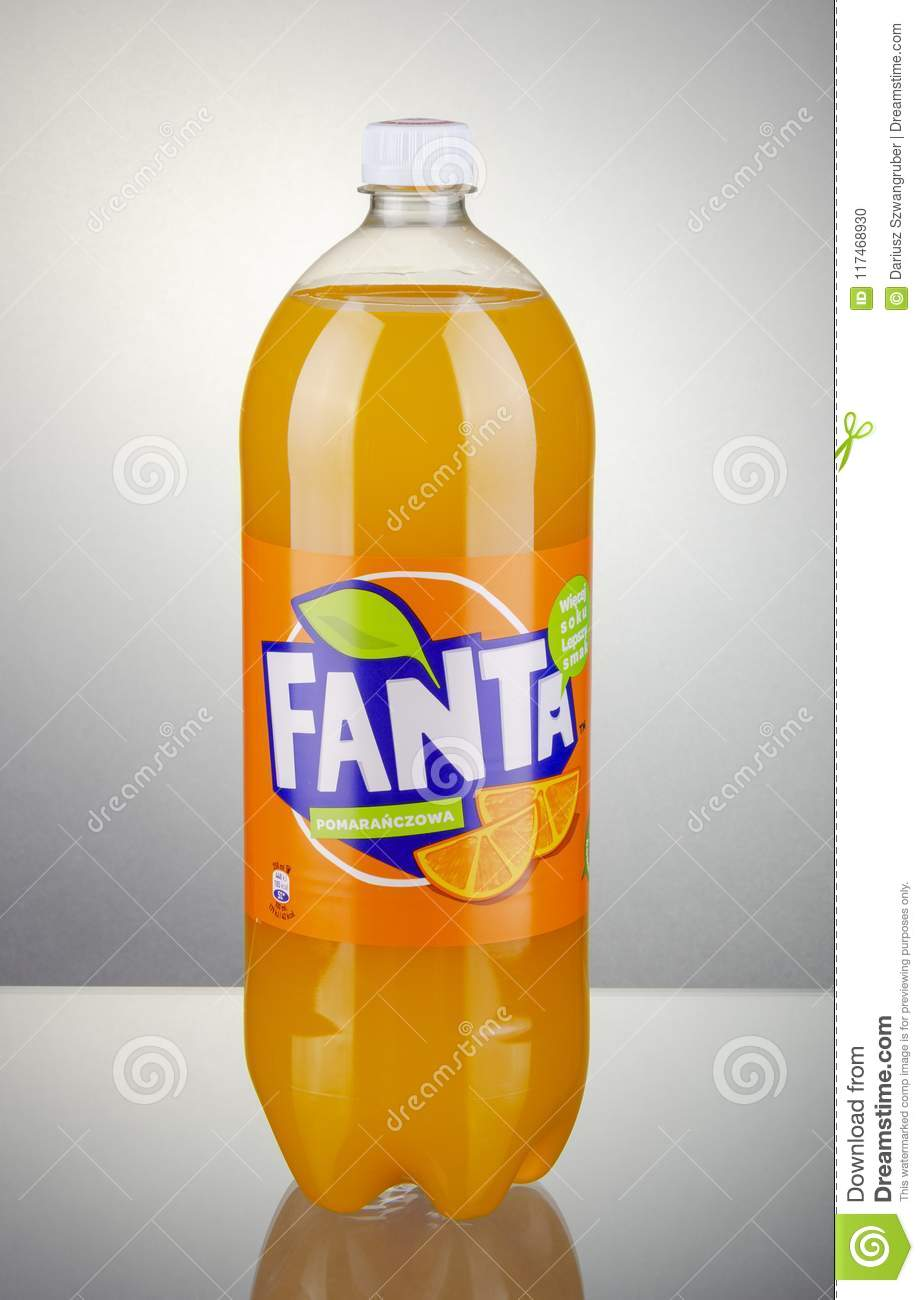fanta_bottle: (235, 116, 600, 1224)
